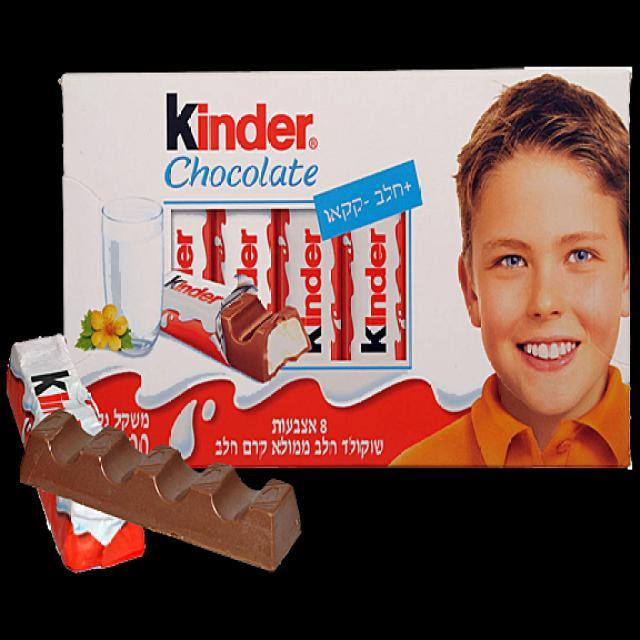Chocolate bar: (56, 65, 638, 473)
Chocolate bar packaged: (23, 409, 305, 571)
